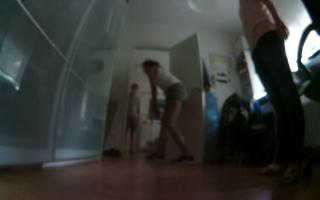person: (235, 1, 308, 183), (143, 58, 196, 164), (121, 79, 142, 158)
